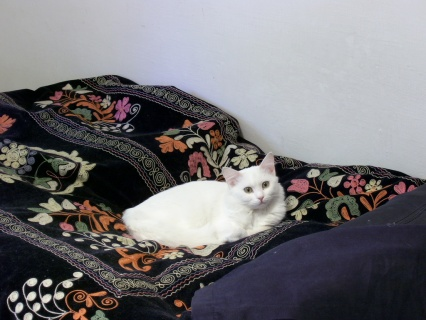Cat: (121, 152, 289, 247)
